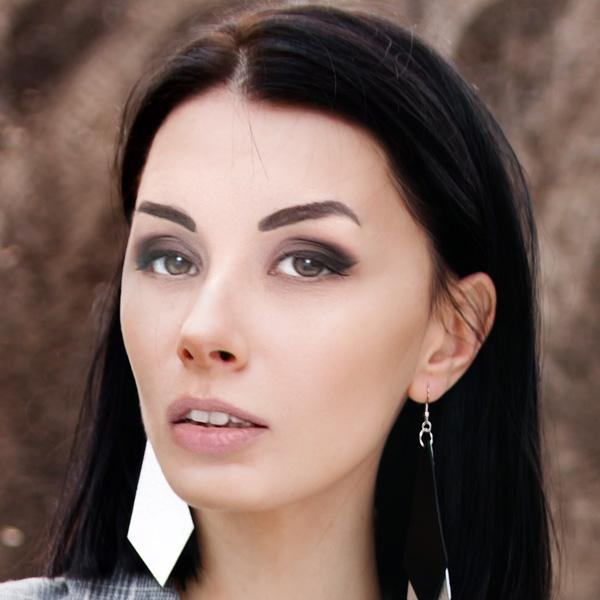Eyes: (259, 231, 361, 294), (130, 232, 206, 291)
